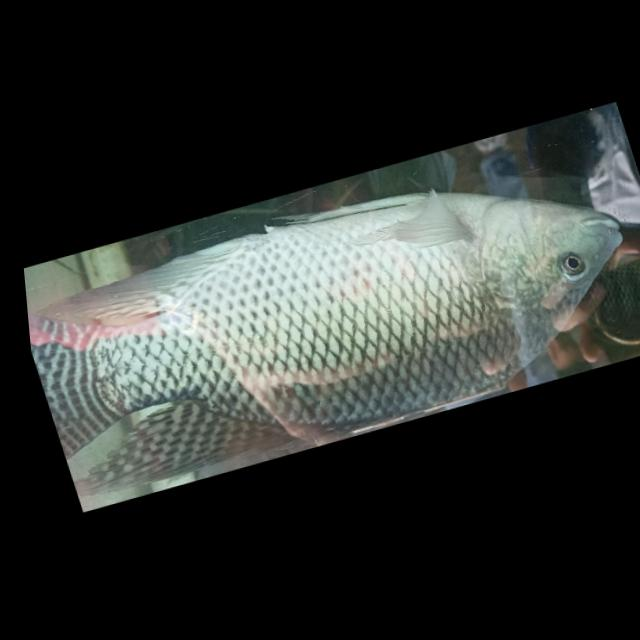Tilapia: (13, 117, 640, 512)
